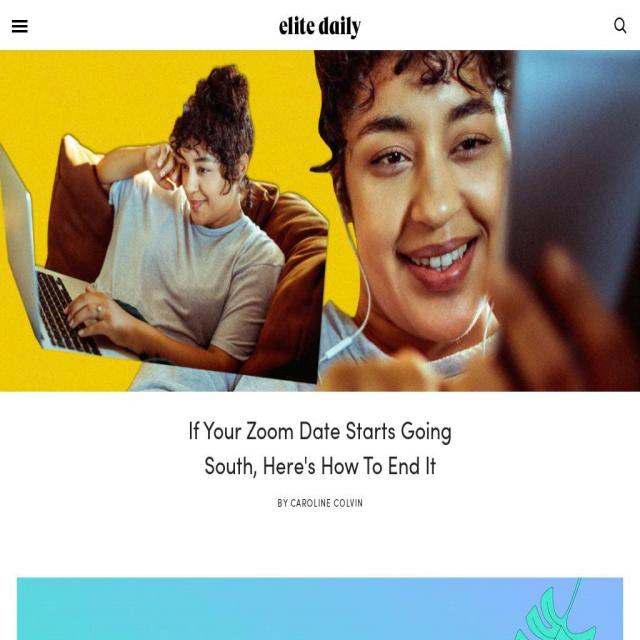options: (8, 12, 32, 40)
search: (602, 12, 638, 38)
